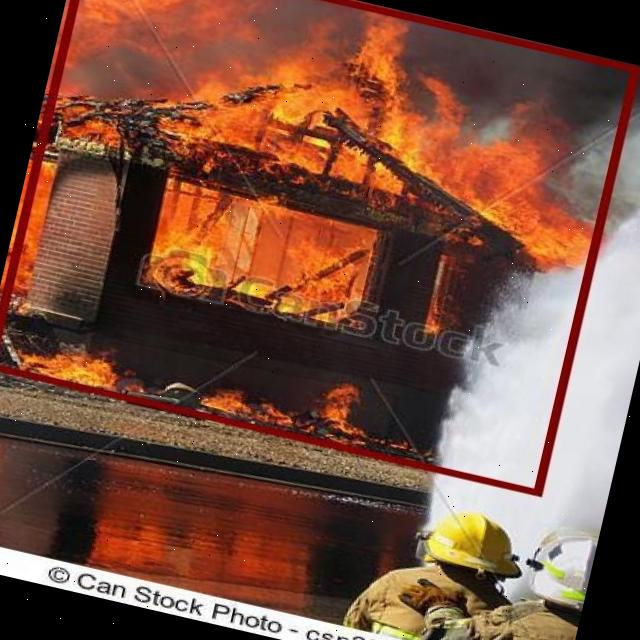fire: (0, 0, 638, 495)
